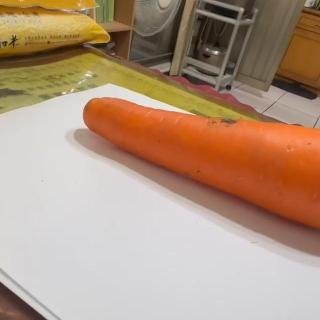carrot: (82, 95, 320, 232)
